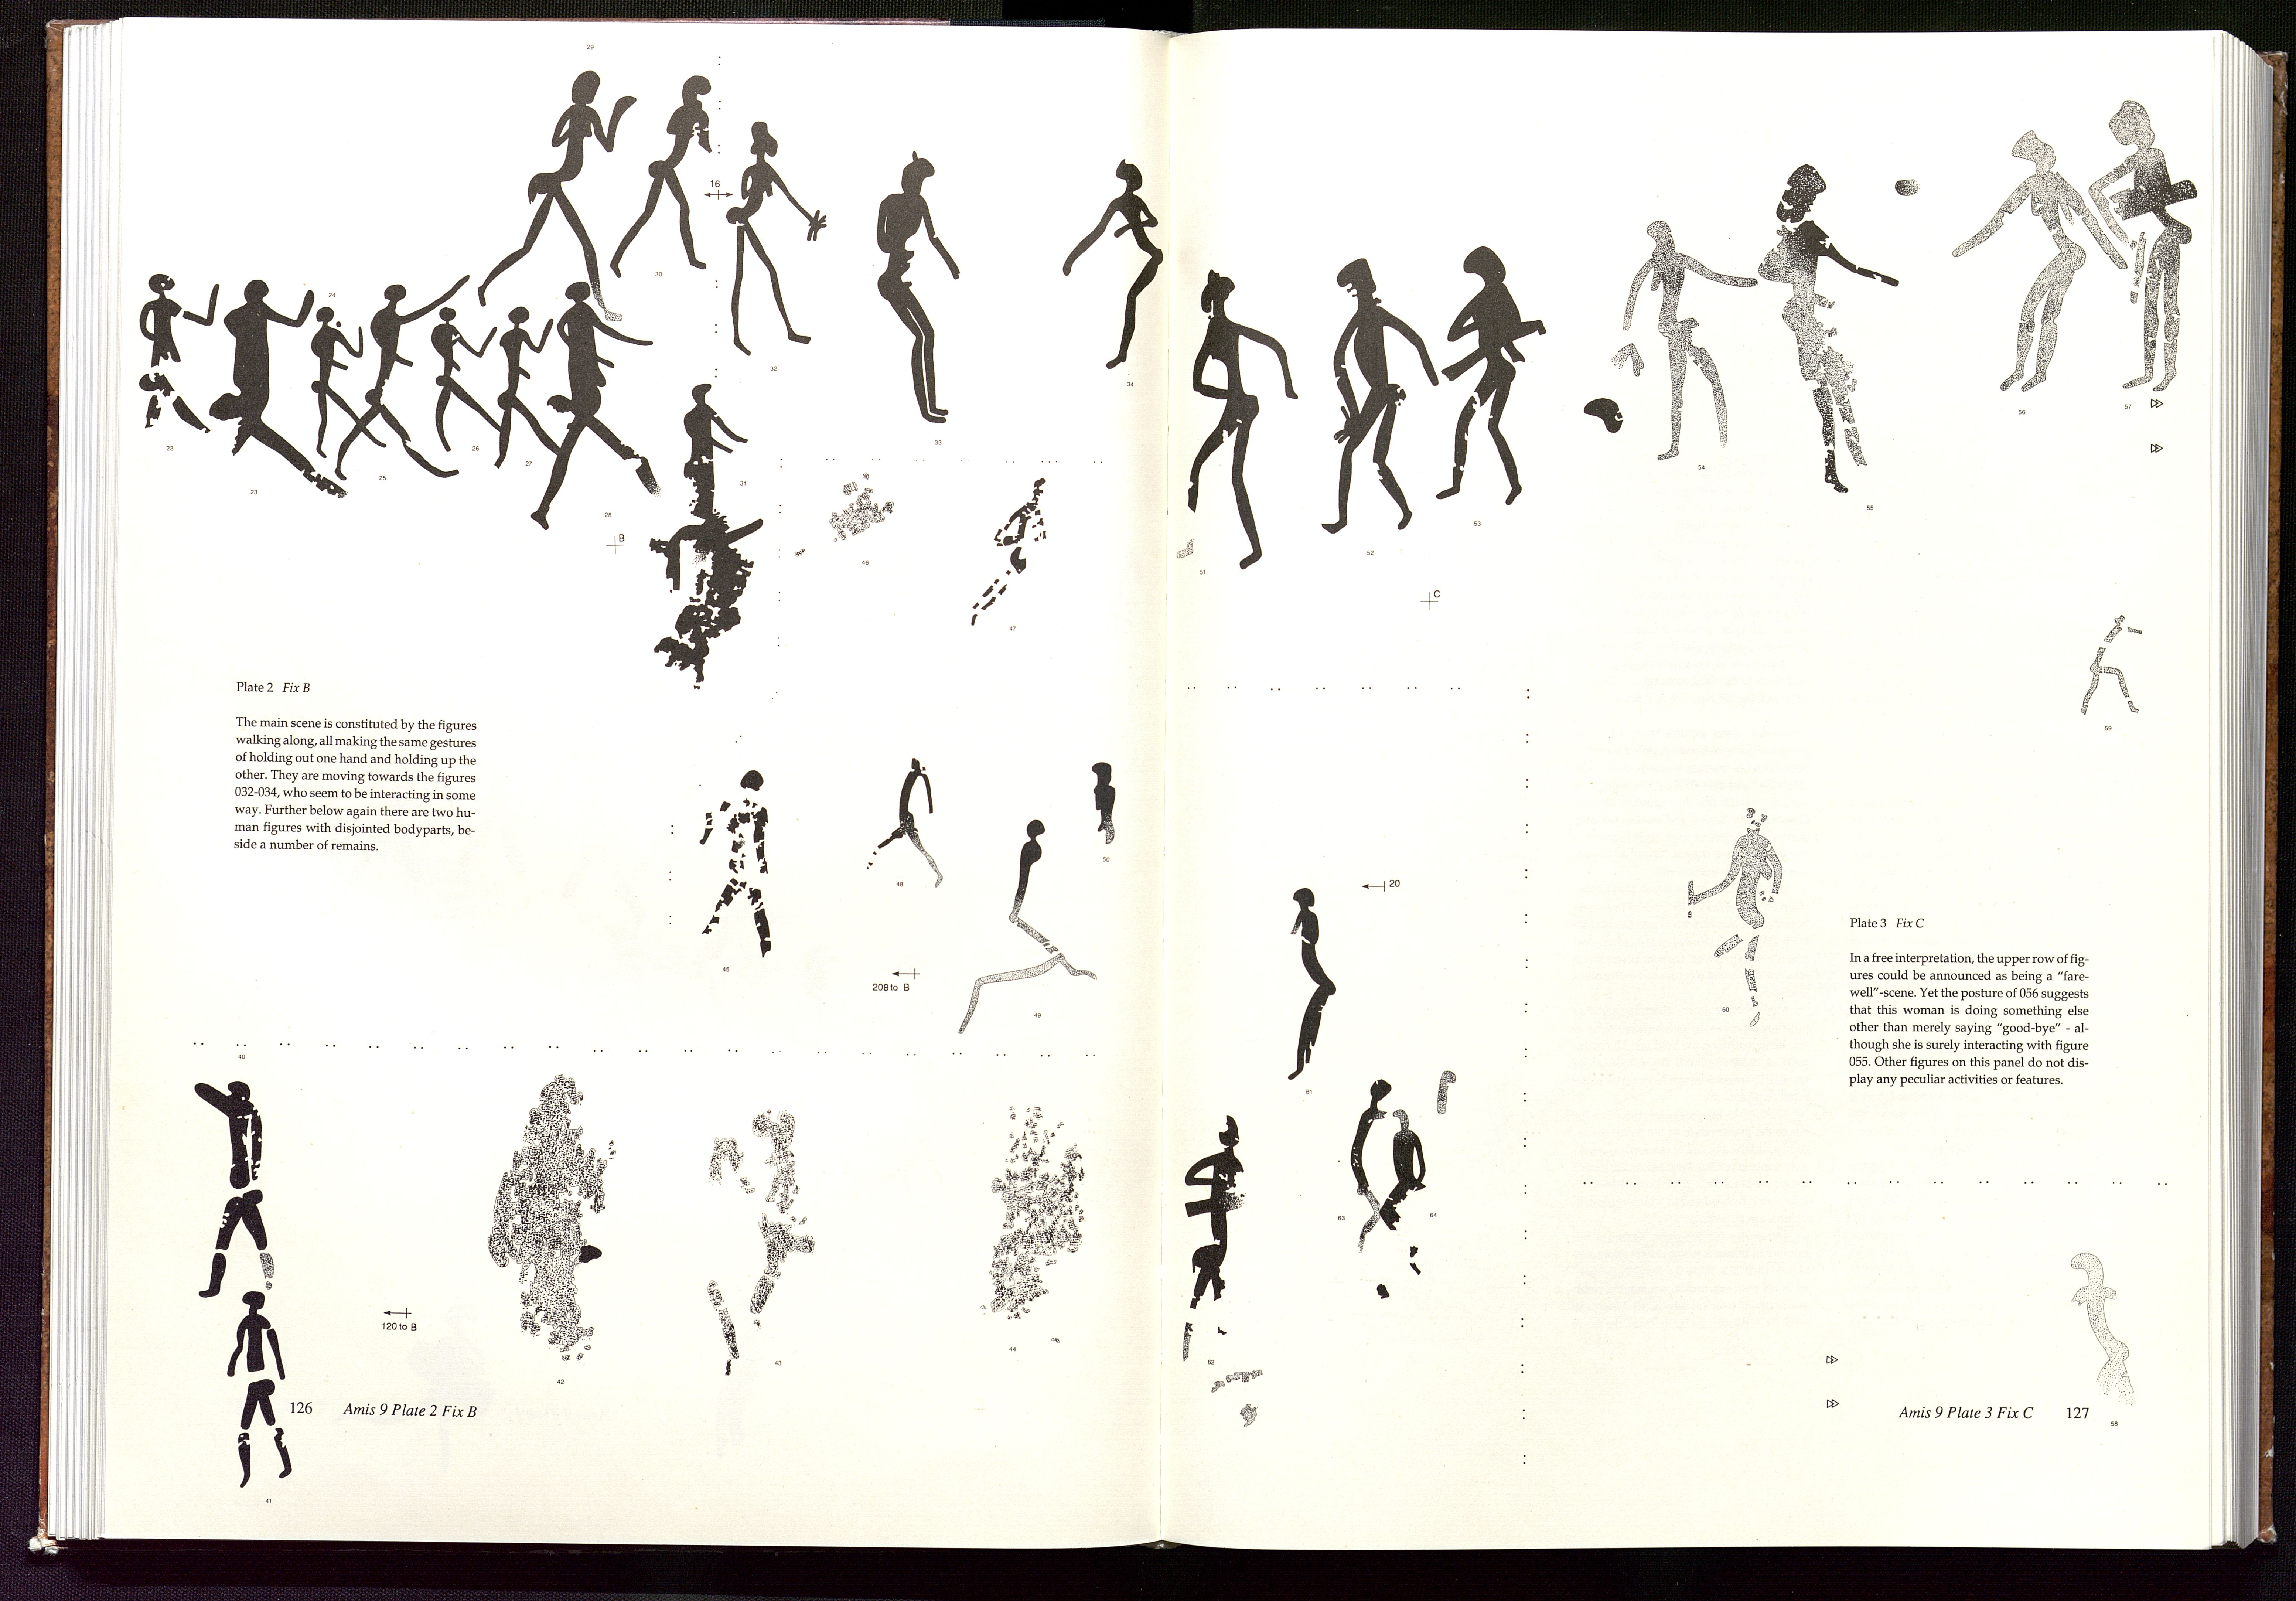human: (1756, 162, 1900, 494), (1950, 130, 2129, 393), (475, 69, 625, 322), (1174, 269, 1298, 570), (1621, 219, 1758, 462), (528, 283, 663, 532), (2086, 97, 2200, 393), (1321, 257, 1439, 535), (208, 277, 349, 501), (1435, 244, 1548, 507), (331, 274, 461, 482), (723, 119, 830, 358), (875, 150, 961, 424), (606, 74, 714, 280), (1683, 805, 1783, 1029), (1061, 159, 1164, 370), (1180, 1114, 1247, 1361), (695, 768, 773, 959), (136, 272, 220, 436), (310, 304, 388, 461), (492, 305, 562, 470), (862, 756, 945, 890), (2068, 1253, 2137, 1406), (431, 305, 501, 452), (1287, 884, 1338, 1082), (680, 385, 751, 518), (2078, 613, 2146, 716), (1376, 1108, 1429, 1232)
